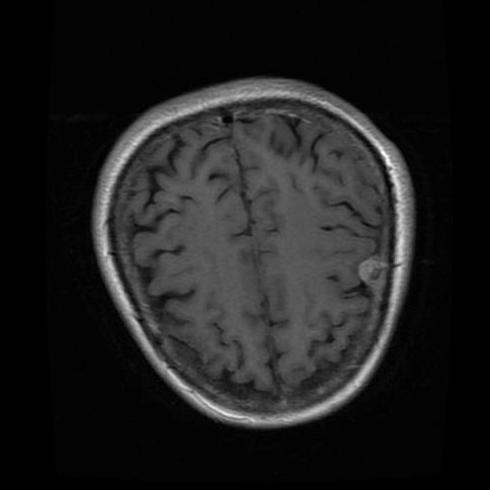Tumour-Pituitary: (328, 220, 400, 299)
